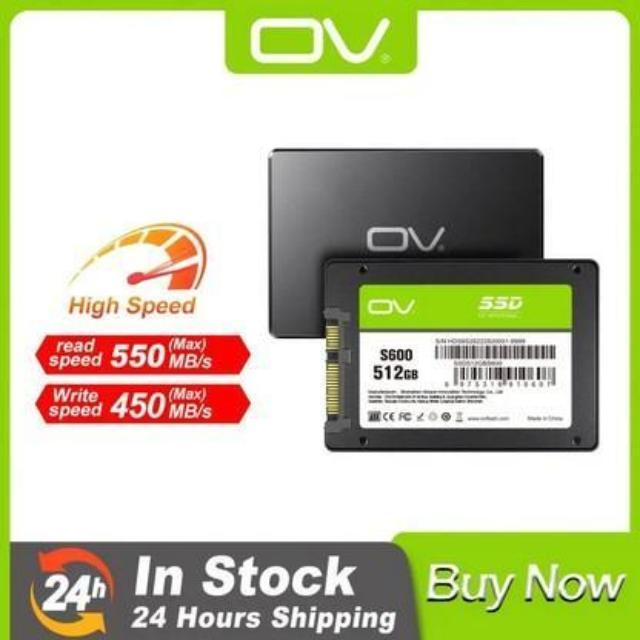DISK: (316, 252, 602, 457), (268, 146, 546, 340)
